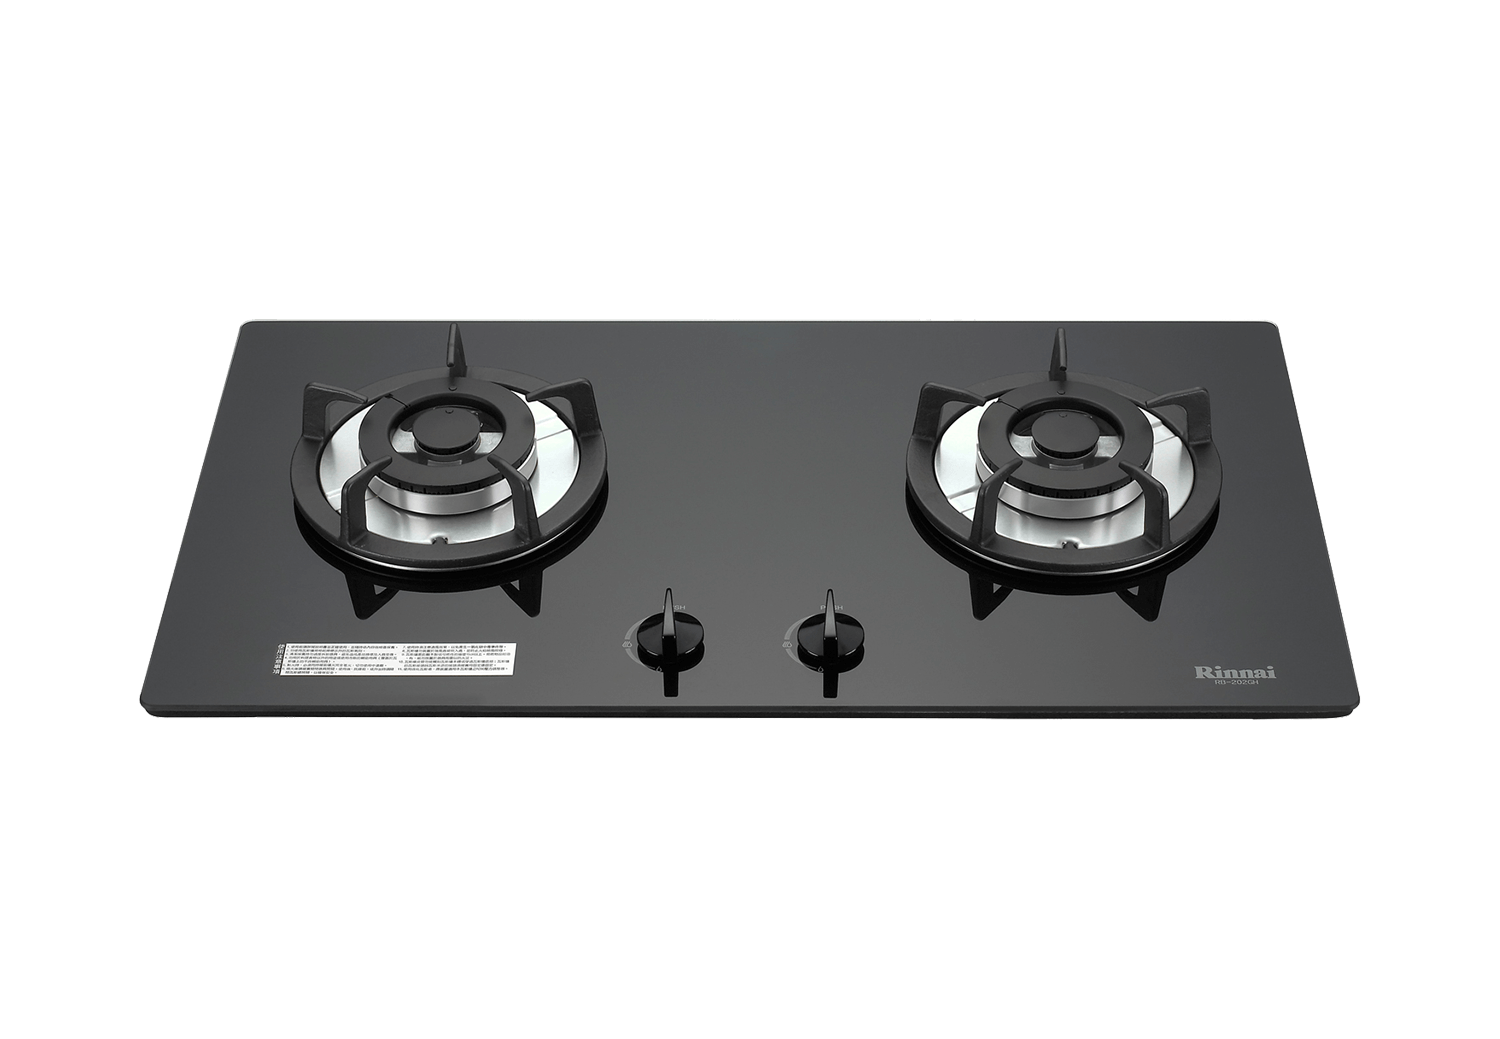gasoven: (134, 306, 1372, 725)
